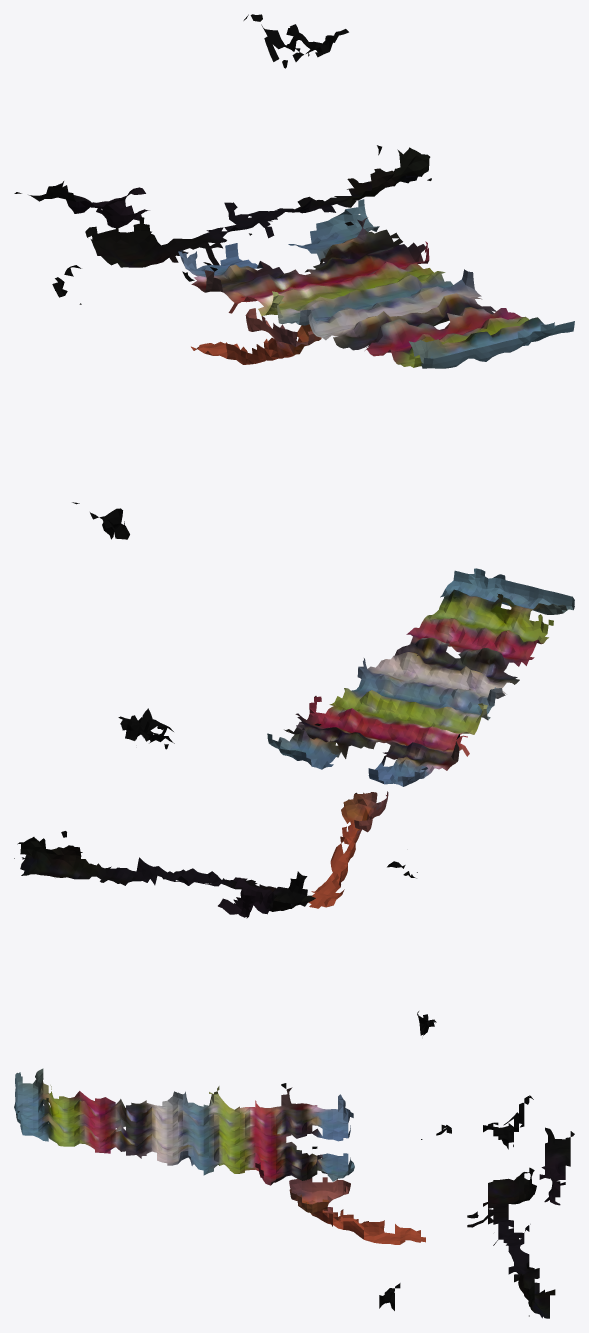
The model's file is xylophone.obj.
3 views of the same model, one above another, from view 1: azimuth 30°, elevation 25°; view 2: azimuth 150°, elevation 25°; view 3: azimuth 270°, elevation 25° (orthographic). The views are drawn at different scales.
Size of the model in its own units: 11.45 by 9.8 by 16.69.
Materials: 1 (1 with a texture image).
